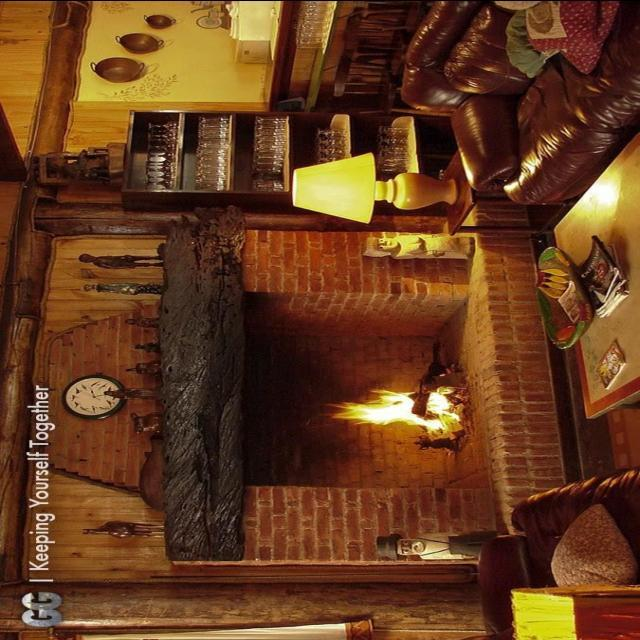Fire: (318, 382, 468, 434)
